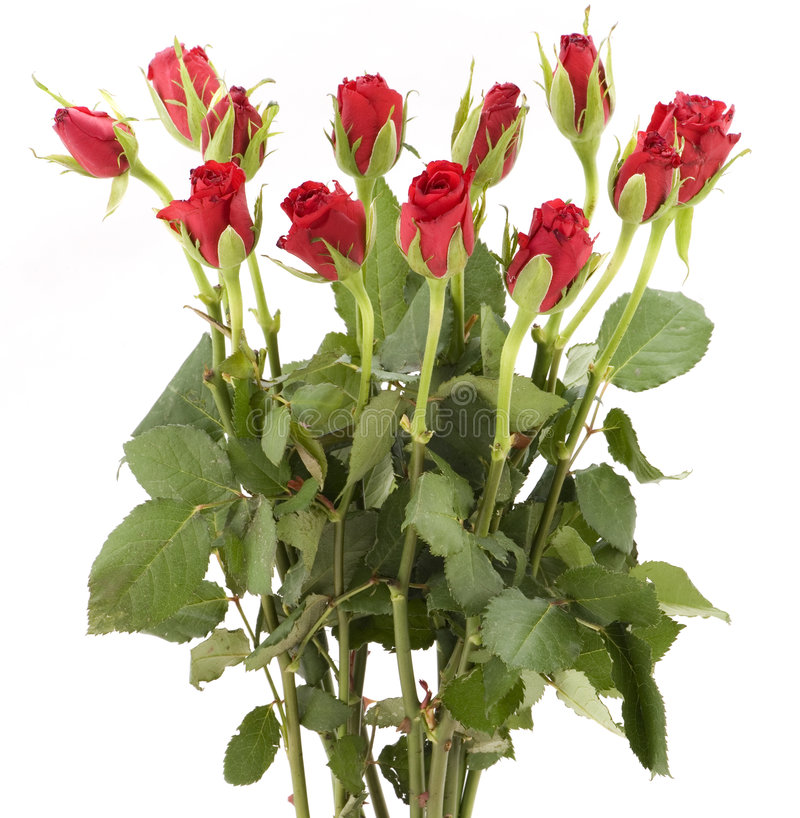RedRose: (135, 37, 269, 177), (166, 142, 289, 294), (41, 82, 151, 249), (278, 161, 394, 300), (331, 49, 438, 186), (622, 97, 713, 232), (517, 189, 599, 327)
